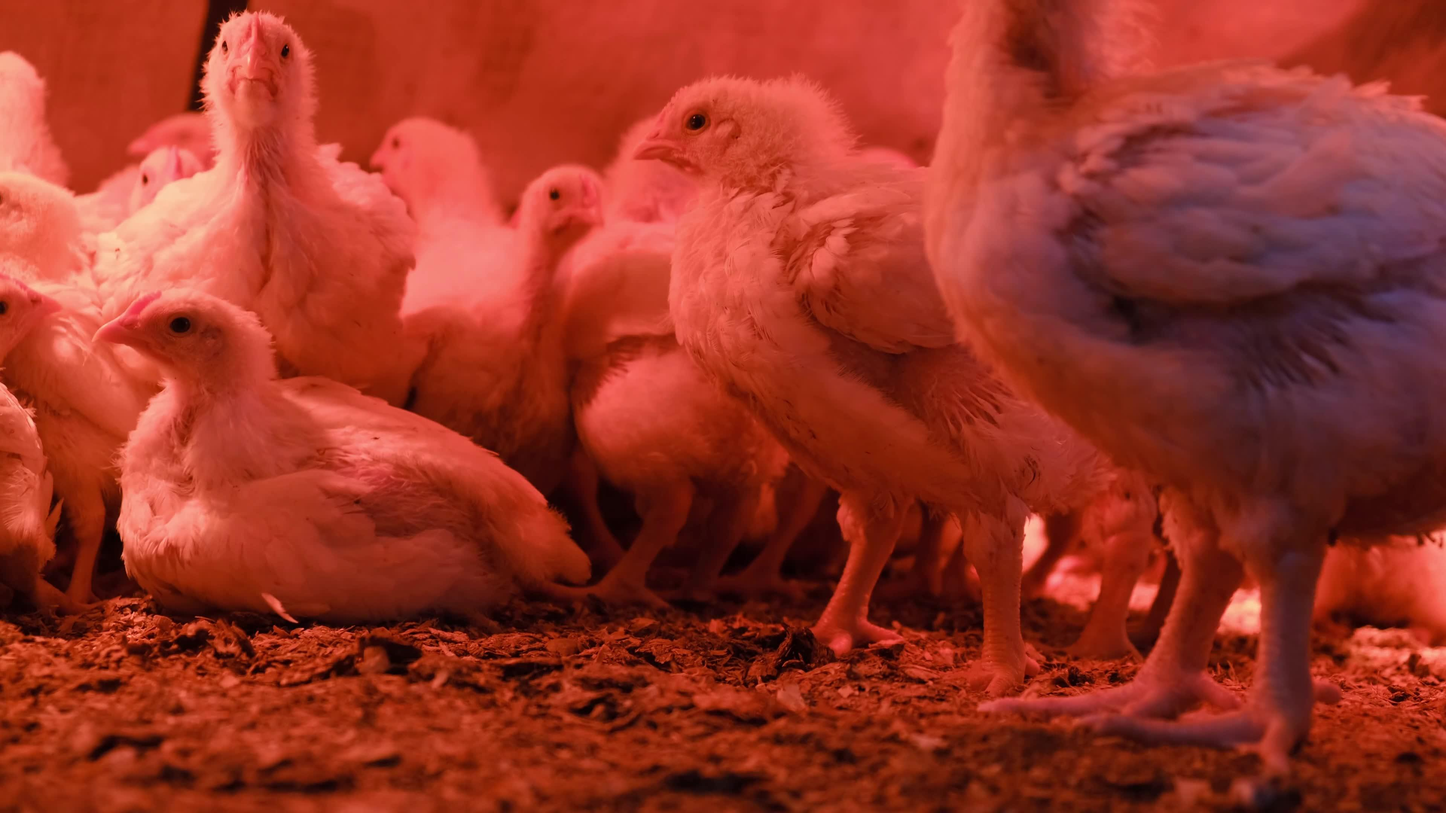AbNormal: (93, 286, 596, 625), (0, 270, 64, 634), (1308, 520, 1446, 646)
Normal: (919, 0, 1446, 813), (629, 76, 1116, 694), (94, 8, 424, 402), (571, 232, 805, 613), (0, 168, 162, 620), (402, 162, 607, 486), (363, 113, 531, 328), (0, 44, 76, 191), (131, 142, 215, 226)
